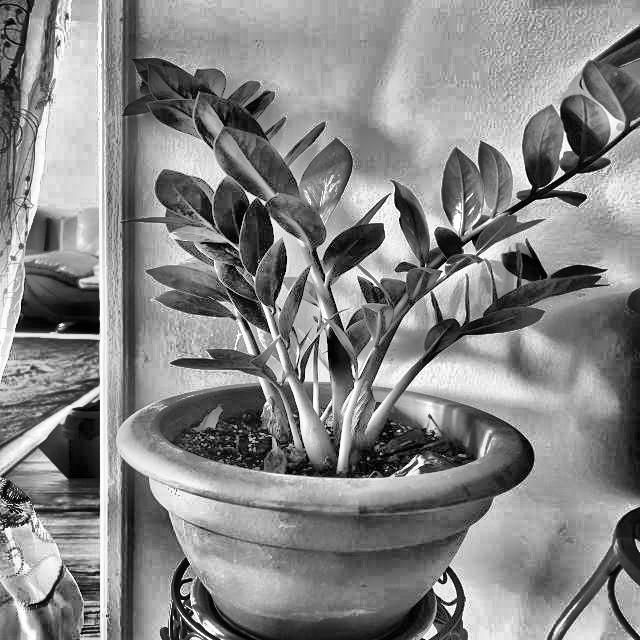plants: (91, 56, 635, 640)
